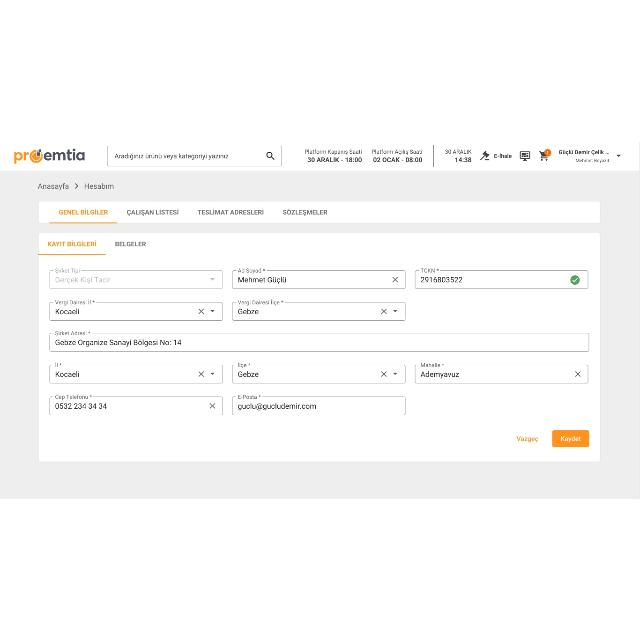QLabel: (56, 206, 110, 216), (45, 238, 99, 248), (196, 208, 264, 215), (125, 207, 179, 215), (282, 207, 328, 216), (304, 148, 362, 154), (306, 156, 362, 162), (558, 148, 610, 154), (372, 148, 422, 154), (373, 156, 422, 162), (112, 240, 150, 247), (574, 157, 610, 163), (516, 433, 538, 442), (558, 435, 582, 443), (444, 148, 472, 154), (493, 152, 512, 158), (454, 156, 472, 162)
VAppBar: (0, 142, 640, 170)
VBadge: (538, 146, 552, 162)
VBreadcrumbs: (36, 182, 116, 190)
VBtn: (551, 429, 589, 447)
VCombobox: (232, 361, 406, 384), (49, 362, 223, 384), (49, 298, 223, 320), (49, 268, 223, 288), (232, 300, 406, 320)
VDivider: (433, 143, 435, 167)
VIcon: (480, 149, 490, 161), (519, 150, 531, 160), (616, 152, 622, 156)
VImg: (12, 146, 86, 164)
VTabs: (34, 199, 604, 465), (38, 232, 600, 462)
VTextField: (50, 331, 590, 352), (106, 144, 282, 166), (49, 394, 223, 416), (232, 394, 406, 416), (232, 267, 406, 289), (416, 361, 588, 383), (415, 268, 589, 288)
